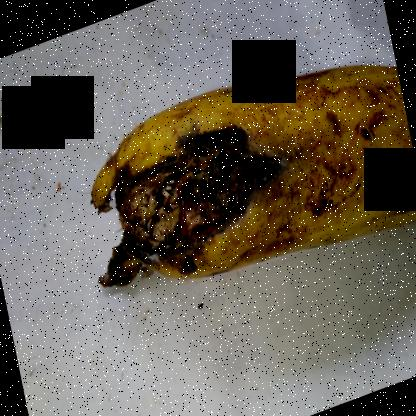ripe: (267, 50, 415, 236)
rotten: (92, 120, 296, 314)
